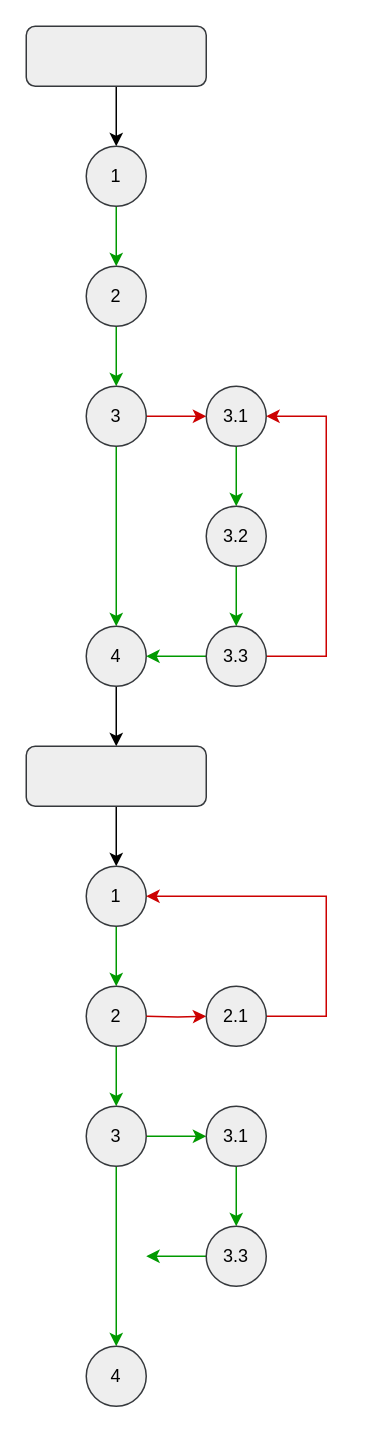
Image size: 365x1433. Some labels were removed from this diagram. The shapes that lost their labels are listed below. From the top down, each one's box as (x1, y1, x2, y2) in pixels, then its label:
(25, 25, 206, 86): HU #1: Login
(25, 745, 206, 806): HU #2: Feed
